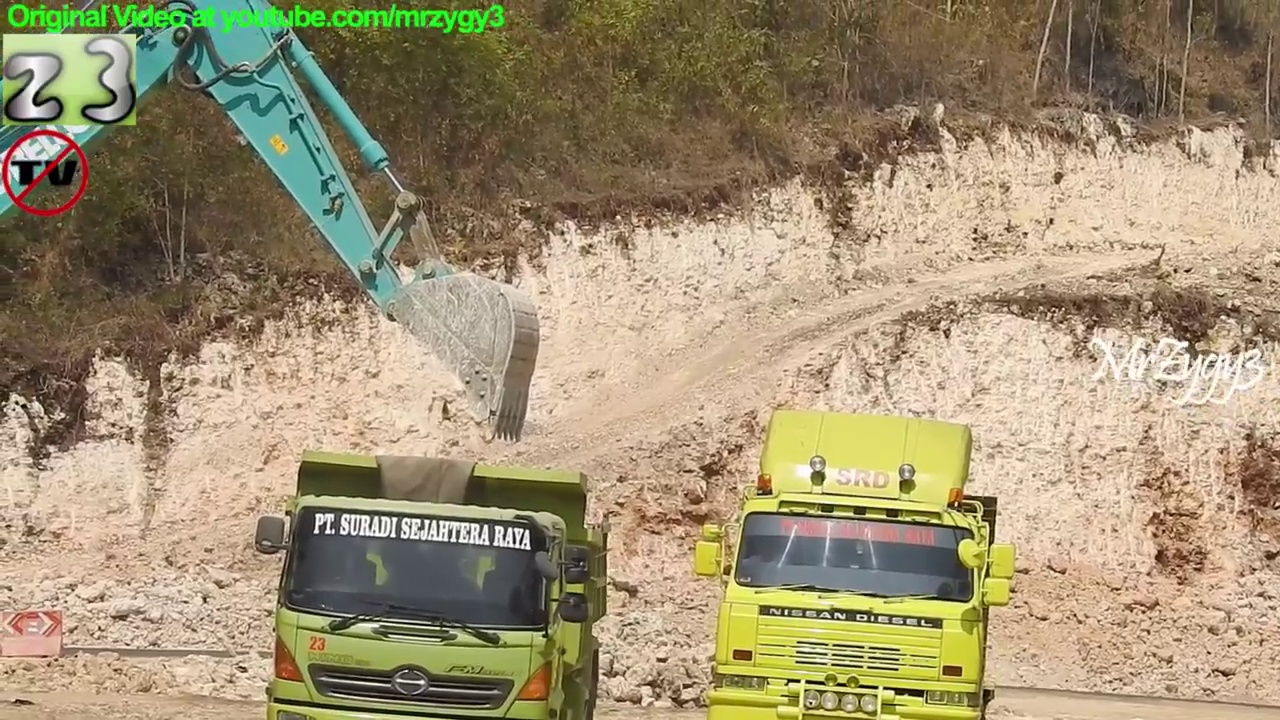excavator: (1, 1, 544, 447)
truck: (691, 399, 1018, 720), (250, 443, 619, 720)
